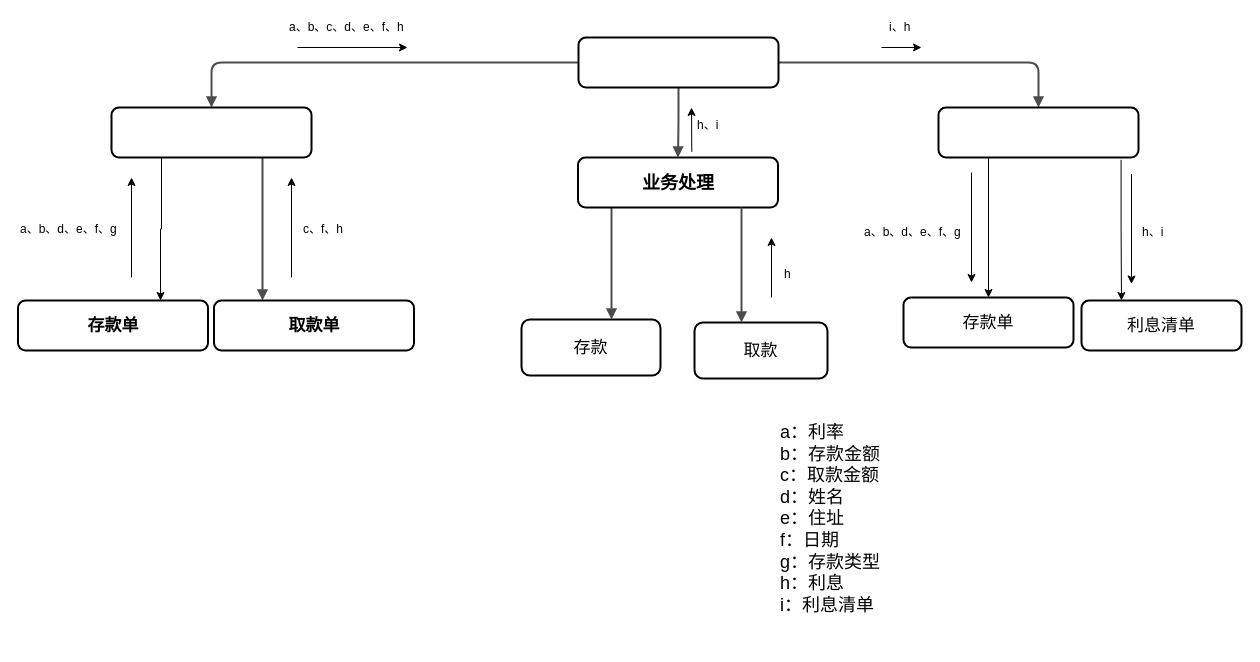
Some shapes in this 1260 by 662 pixel diagram are drawn without their labels. Here are the shapes that lost their labels. From the top down, the centre of each, then its label:
At point (678, 62): "银行储蓄系统".
At point (211, 132): "单据录入".
At point (1038, 132): "单据输出".
